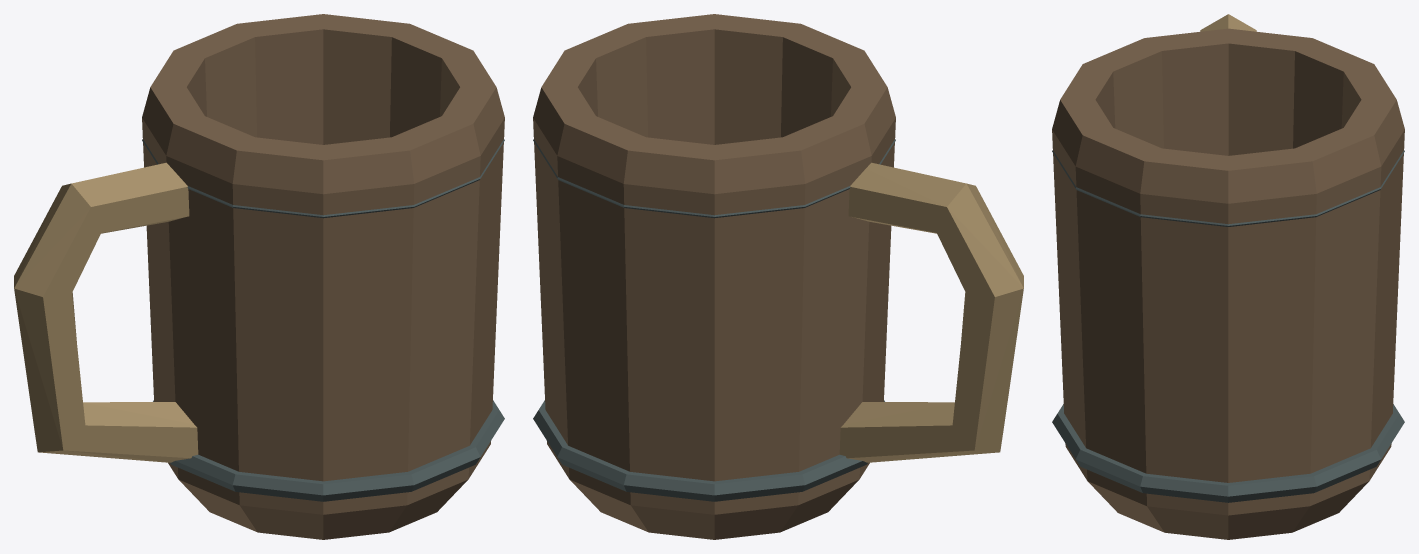
File: SWP_WoodenMug.fbx
The picture shows the model from 3 angles, left to right: view 1: azimuth 30°, elevation 25°; view 2: azimuth 150°, elevation 25°; view 3: azimuth 270°, elevation 25°; orthographic projection. The views are drawn at different scales.
Visible parts, largest first — view 1: SWP_WoodenMug; view 2: SWP_WoodenMug; view 3: SWP_WoodenMug.
Boxes of the visible parts, x1,y1,x2,y2 form: SWP_WoodenMug: (14,14,504,539); SWP_WoodenMug: (533,14,1023,539); SWP_WoodenMug: (1052,14,1404,539).
Bounding box in the file's own units: 0.1929 × 0.157 × 0.13.
